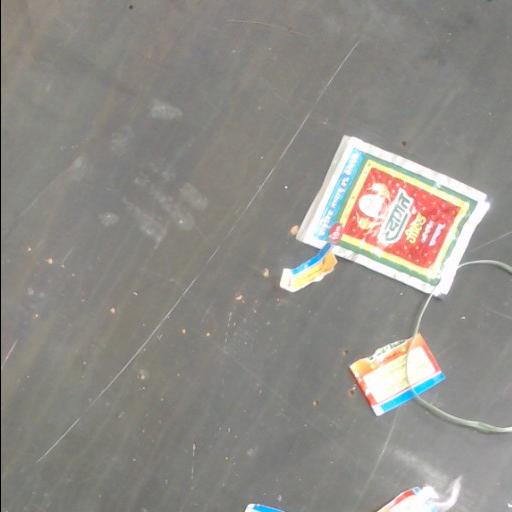conveyor belt: (1, 0, 512, 511), (421, 268, 512, 426)
packet: (280, 135, 489, 295), (349, 327, 443, 415), (377, 477, 460, 511), (244, 504, 282, 511)
thread: (409, 384, 512, 432), (401, 293, 432, 384), (457, 259, 512, 276)
